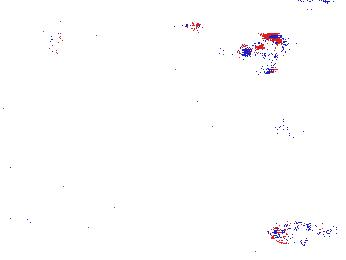X-ray fish: (270, 219, 333, 252), (35, 17, 64, 53)
red belly glassfish: (171, 20, 203, 33)
redtail glassfish: (232, 30, 315, 75)
